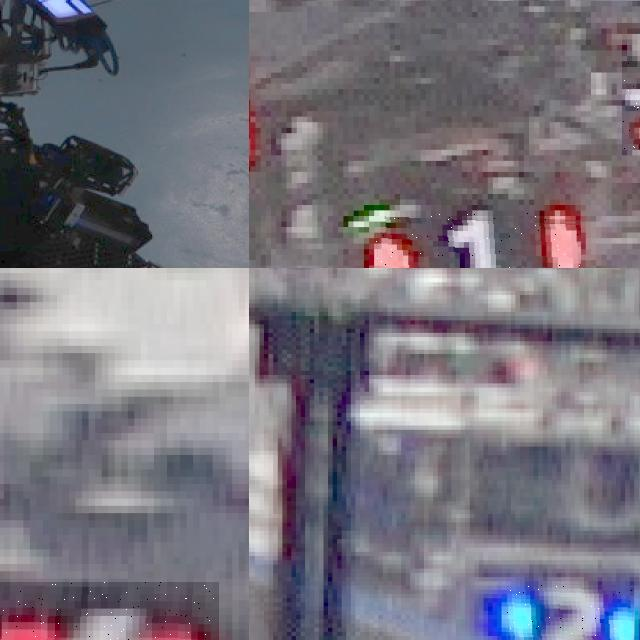B2: (501, 581, 634, 640)
R1: (374, 210, 580, 268), (622, 61, 640, 149)
R4: (0, 582, 219, 640)
